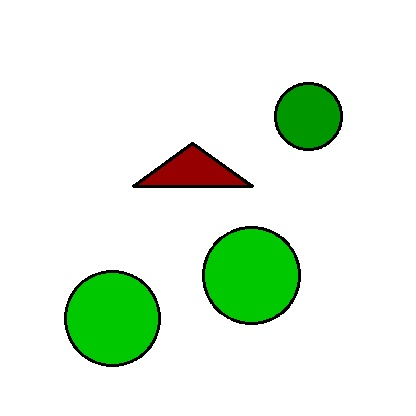circle: (58, 271, 166, 366), (200, 227, 303, 323), (275, 59, 342, 174)
triangle: (133, 143, 252, 186)
